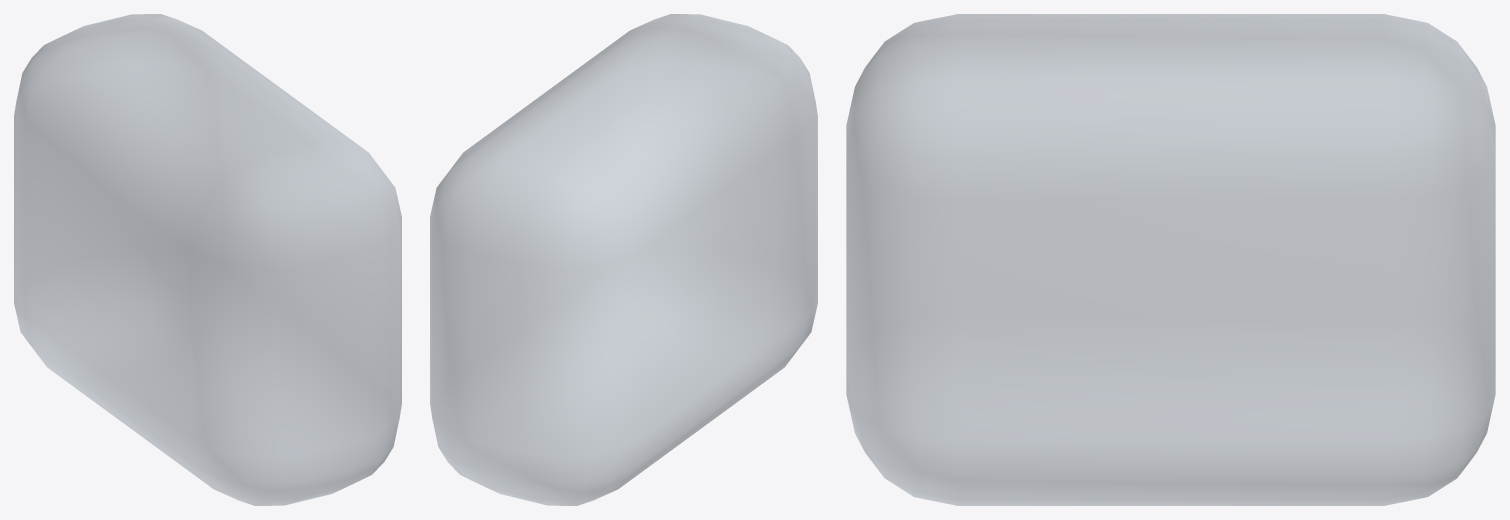
Rendered from P05_knuckleguard.glb.
The picture shows the model from 3 angles, left to right: view 1: azimuth 30°, elevation 25°; view 2: azimuth 150°, elevation 25°; view 3: azimuth 270°, elevation 25°; orthographic projection. The views are drawn at different scales.
Parts seen in each view (by area): view 1: knuckleguard; view 2: knuckleguard; view 3: knuckleguard.
Part boxes in pixels (x1,y1,x2,y2): knuckleguard: [14, 14, 401, 505]; knuckleguard: [430, 14, 817, 505]; knuckleguard: [846, 14, 1495, 505].
Bounding box in the file's own units: 0.058 × 0.096 × 0.128.
